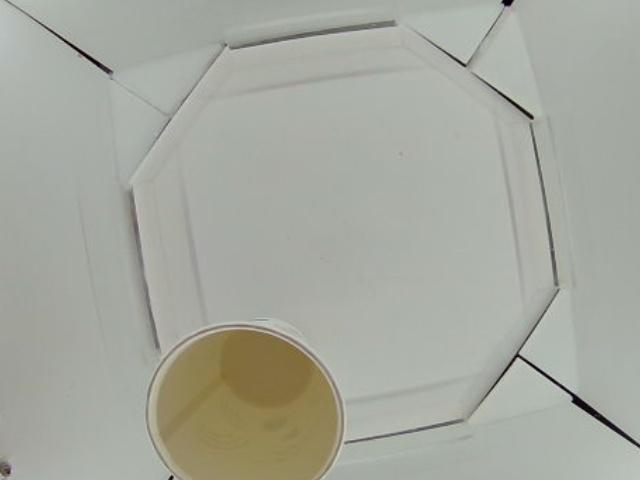Cup: (143, 320, 345, 480)
